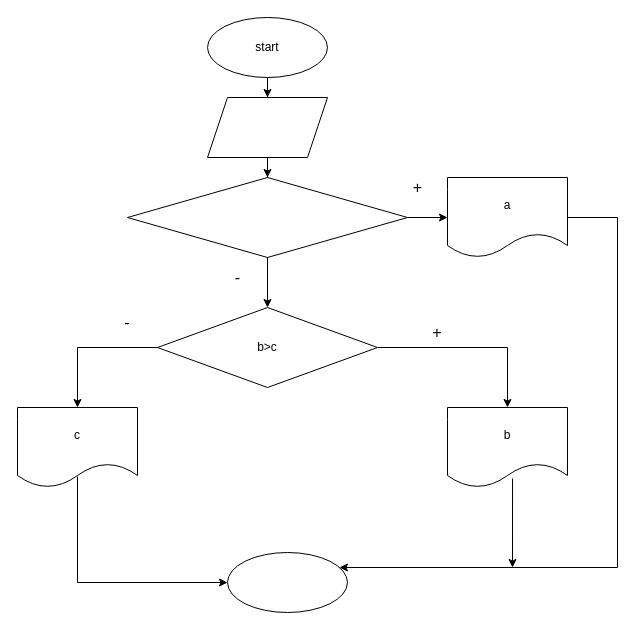
Image size: 643x630. Some labels were removed from this diagram. Here are the shapes that lost their labels. From the top down, the centre of each, then its label:
(x=267, y=127): a,b,c
(x=267, y=217): a>b a>c
(x=287, y=582): end
